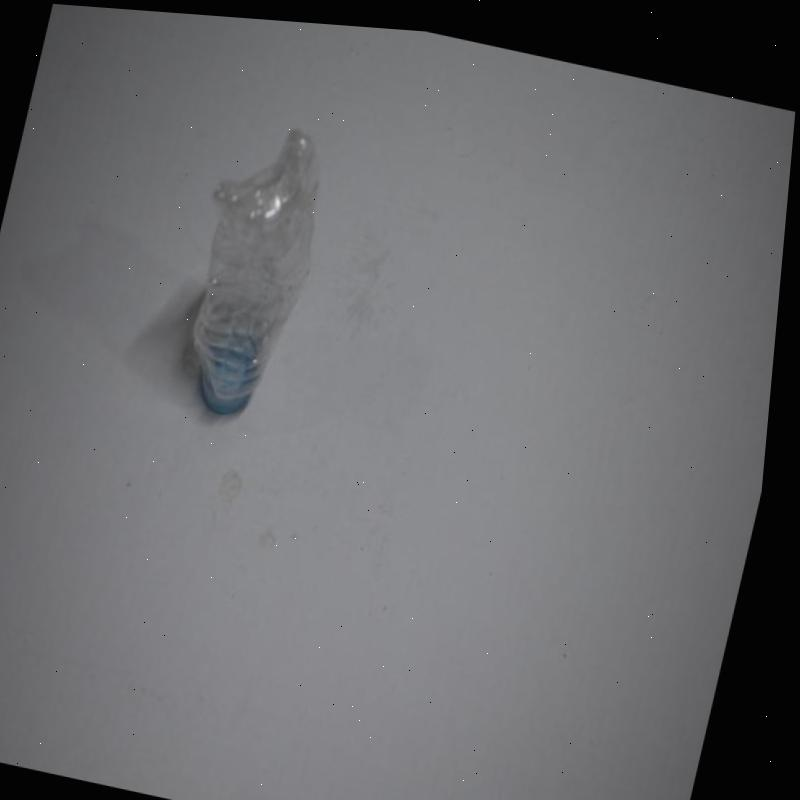botella: (165, 109, 346, 440)
